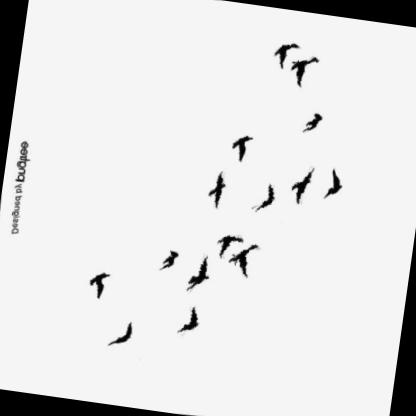bird: (224, 237, 265, 283), (283, 51, 323, 94), (183, 250, 216, 297), (284, 161, 315, 208), (246, 178, 283, 217), (209, 224, 245, 264), (203, 168, 232, 212), (175, 301, 205, 343), (269, 38, 301, 72), (226, 130, 254, 167), (84, 267, 113, 302), (105, 318, 135, 351), (320, 166, 345, 203), (299, 107, 326, 139), (156, 246, 181, 274)
